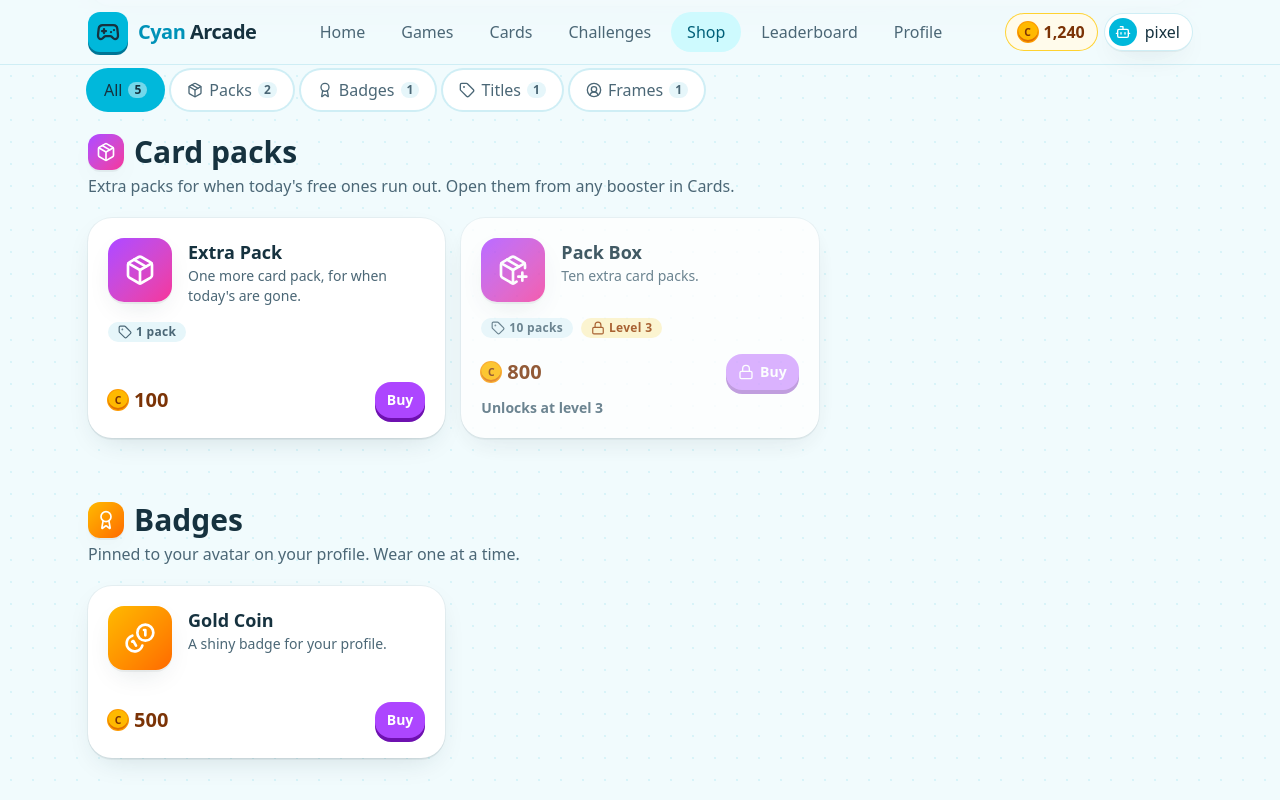
Test case: the shop › lets a player buy an item after confirming, with nothing but the item and a request id
(page scrolled)
Click the button with aria-label "Buy Extra Pack for 100 coins". click: point(400, 400)
box: [375,382,425,418]
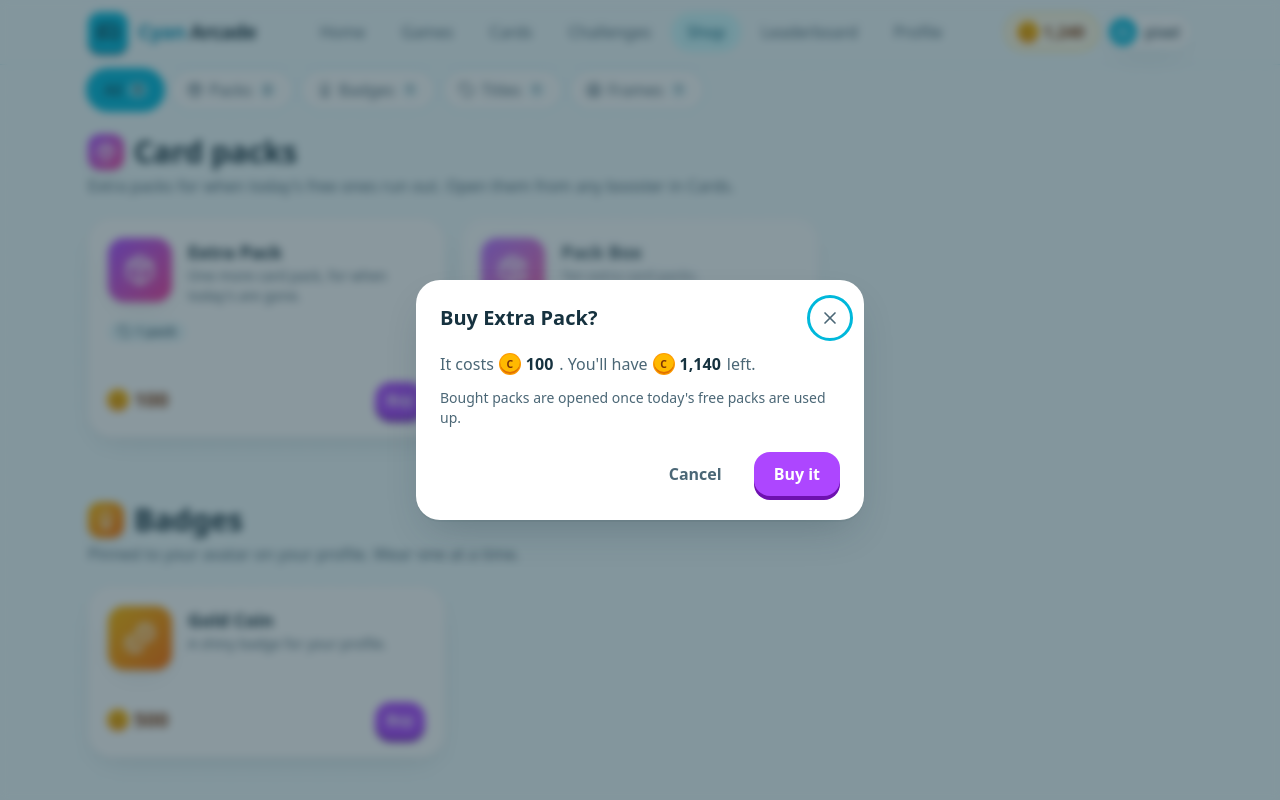
Click the button "Buy it". click: point(797, 474)
box: [754,452,840,496]
(page scrolled)
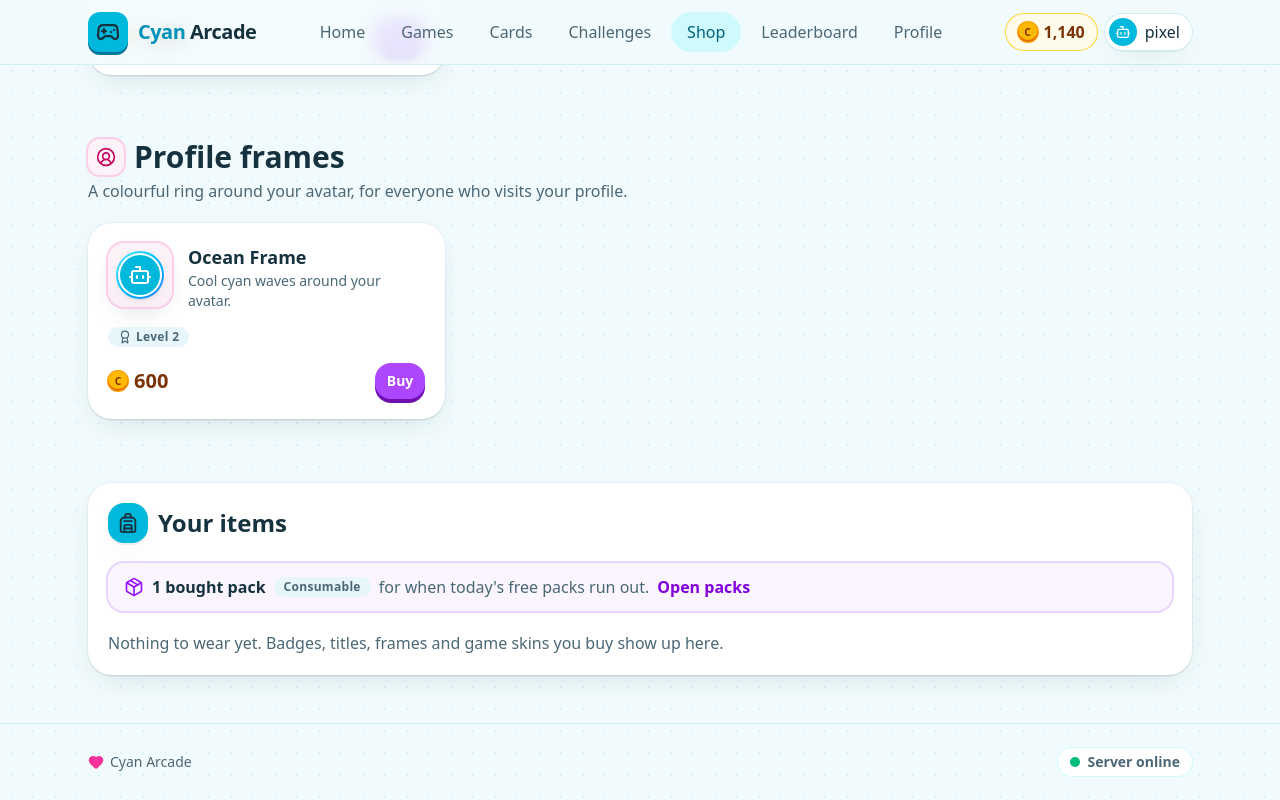
Expected: the text "1 bought pack" is shown, [152,575,266,599]
